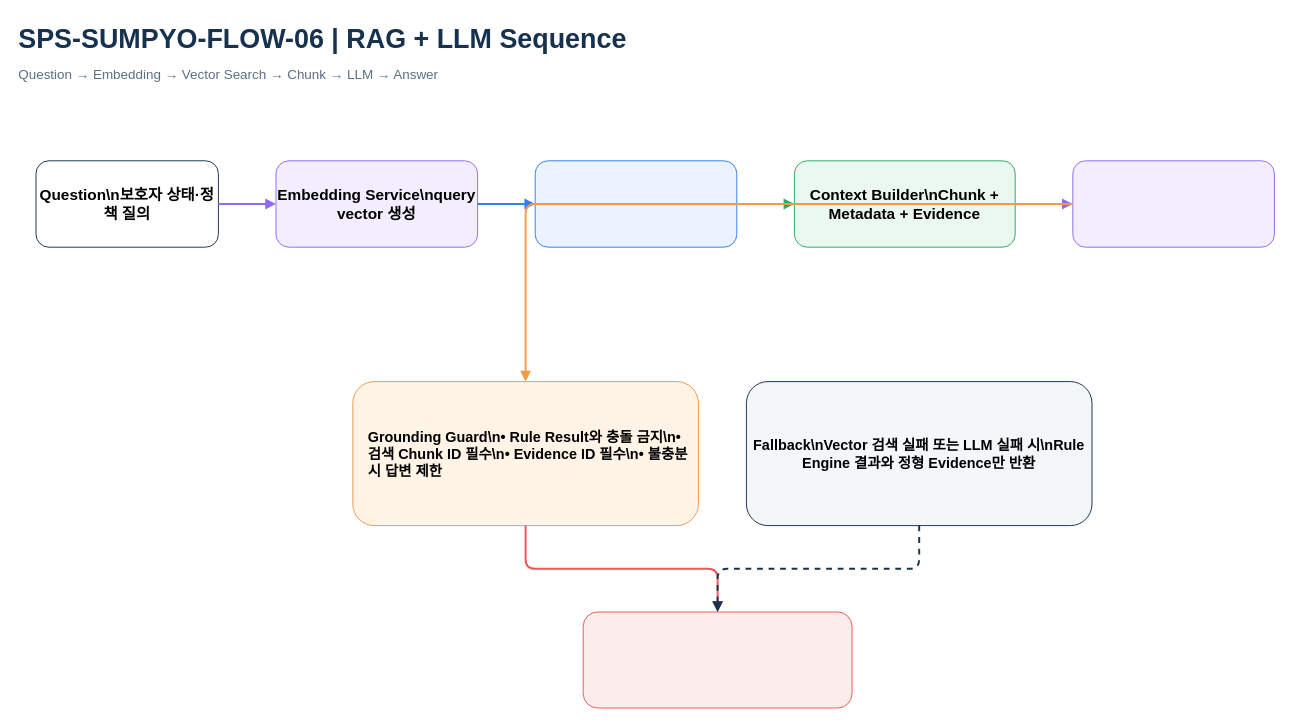
Image size: 1291x725. Some labels were removed from this diagram. Here are the shapes that lost their labels. From the top down, the centre of each, then its label:
(635,203): Vector Search\npolicy_chunk Top-K
(1173,203): LLM\n근거 기반 설명 생성
(717,659): Answer\n추천 설명 + 출처 + 한계
